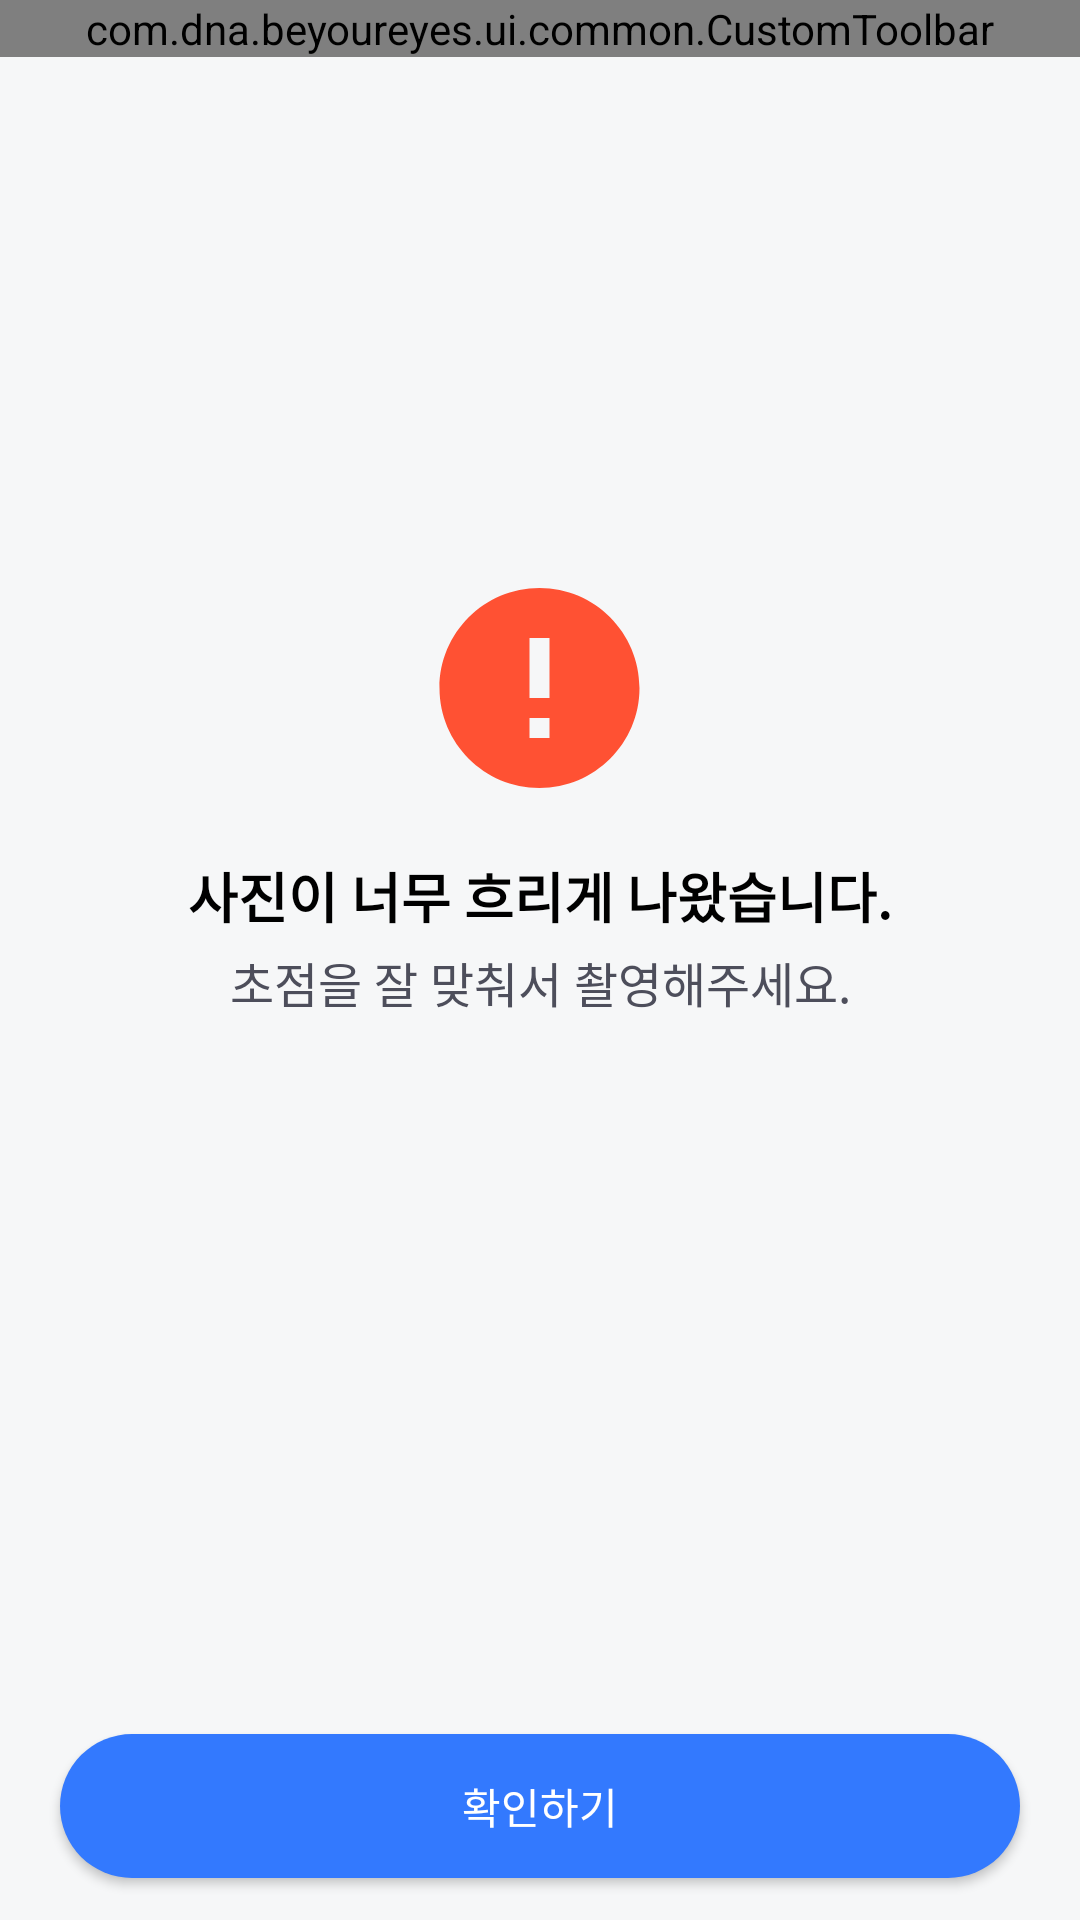

Icons on this 1080px×1920px Android screen, each with its box as [left=x1, top=y1, right=x2, bottom=y2]:
camera fail error: [left=439, top=588, right=640, bottom=788]
